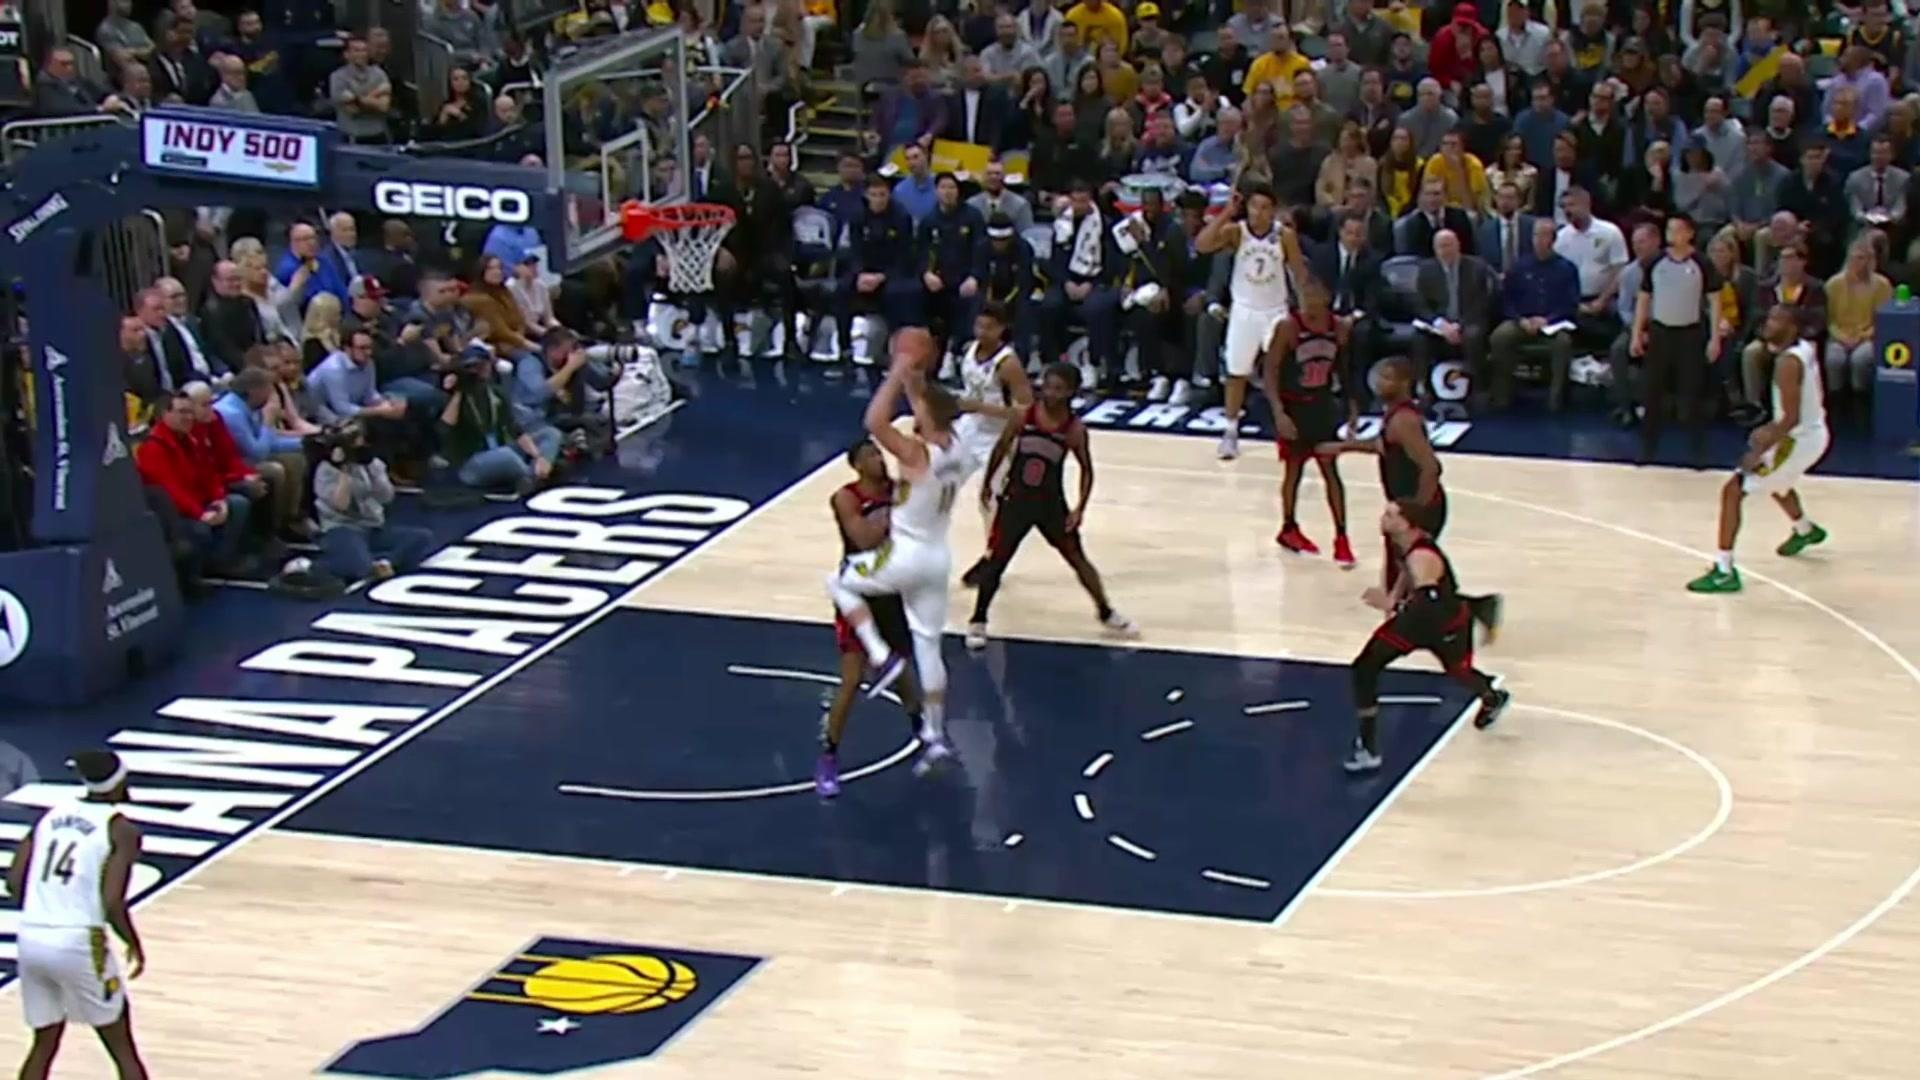no_foul: (837, 365, 956, 794)
